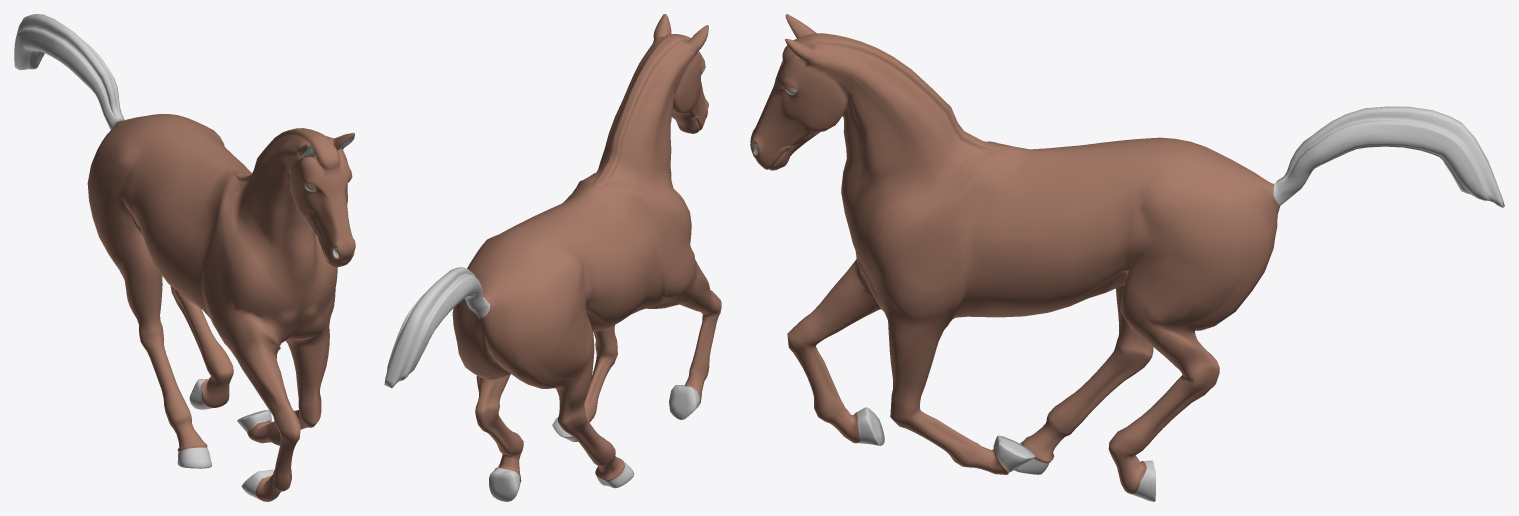
File: horse_obj_6.obj
3 views of the same model, side by side, from view 1: azimuth 30°, elevation 25°; view 2: azimuth 150°, elevation 25°; view 3: azimuth 270°, elevation 25° (orthographic). The views are drawn at different scales.
Visible parts, largest first — view 1: Figure_1; view 2: Figure_1; view 3: Figure_1.
Boxes of the visible parts, x1,y1,x2,y2 form: Figure_1: [14, 14, 355, 501]; Figure_1: [384, 14, 721, 501]; Figure_1: [750, 14, 1504, 501].
Size of the model in its own units: 0.2421 by 0.7814 by 1.16.
